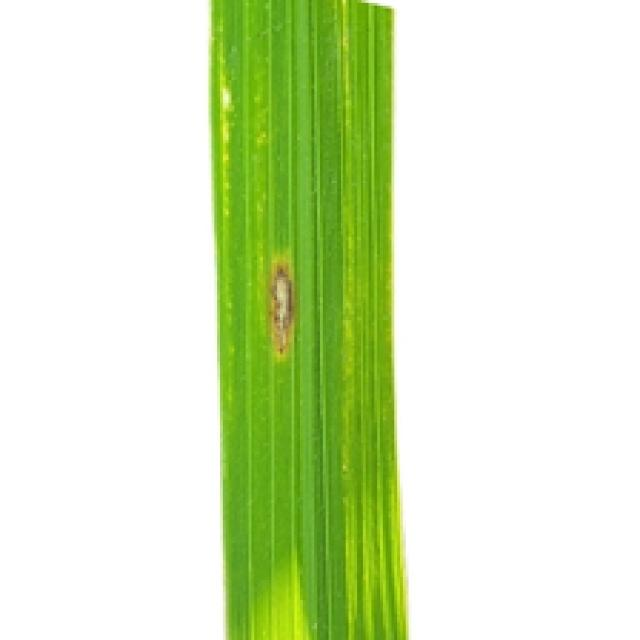Rice___Rice_Blast: (210, 0, 409, 637)
